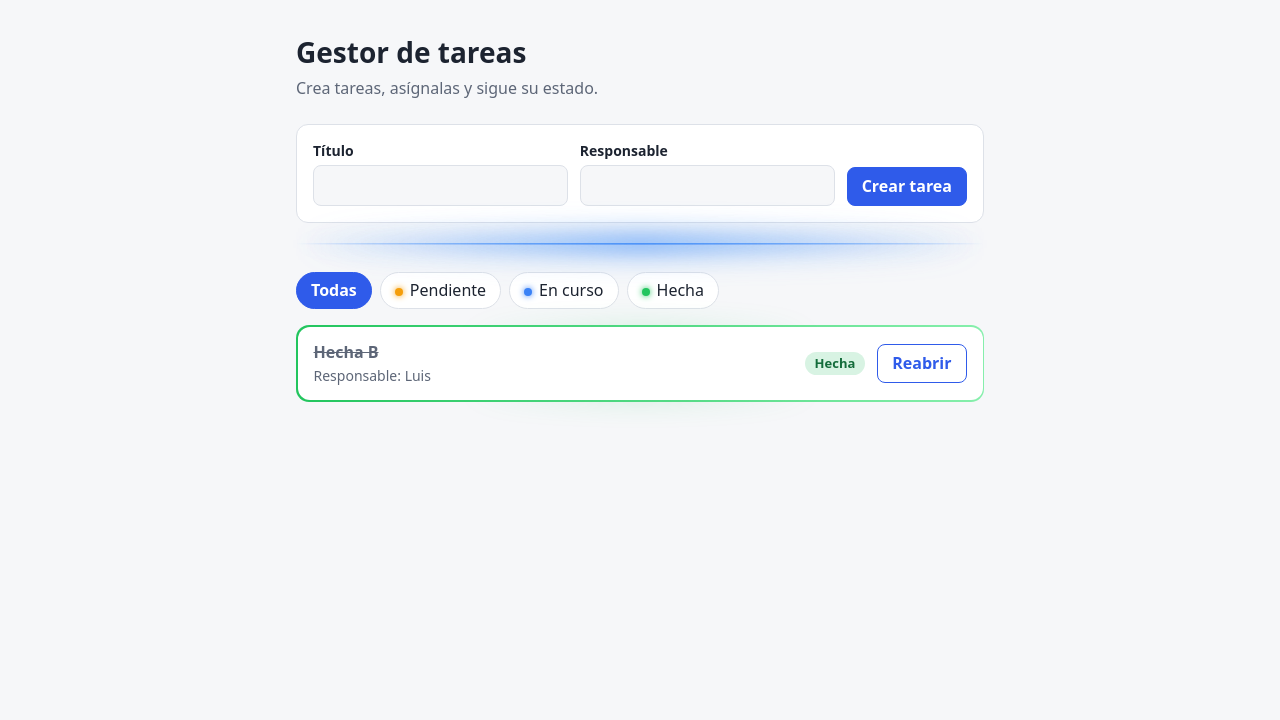
it: App (integración) › crear una tarea con un filtro que la ocultaría: aparece y el filtro vuelve a «Todas»
This screenshot has width=1280, height=720.
Expected: the text "Hecha B" is shown, [314, 341, 378, 363]
Click the button "Hecha": [673, 291] box [626, 272, 719, 310]
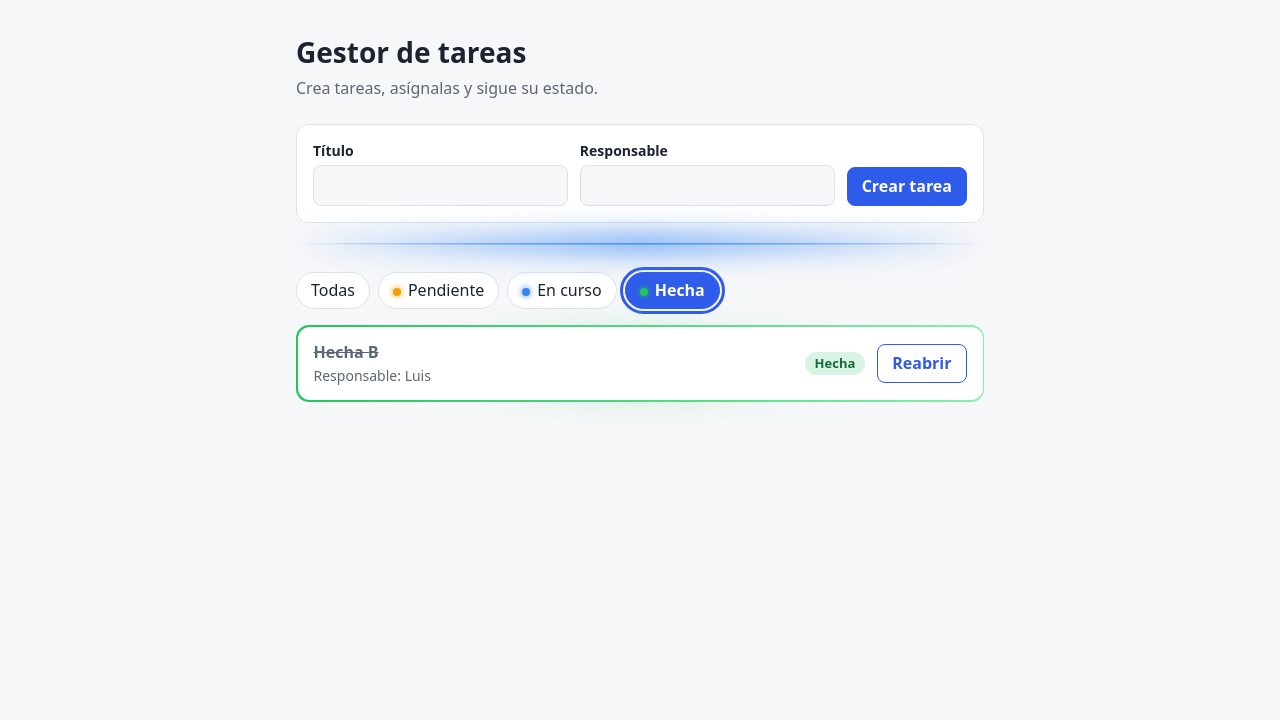
In the field labelled "Título": [440, 186] box [313, 165, 568, 206], type "Nueva tarea"
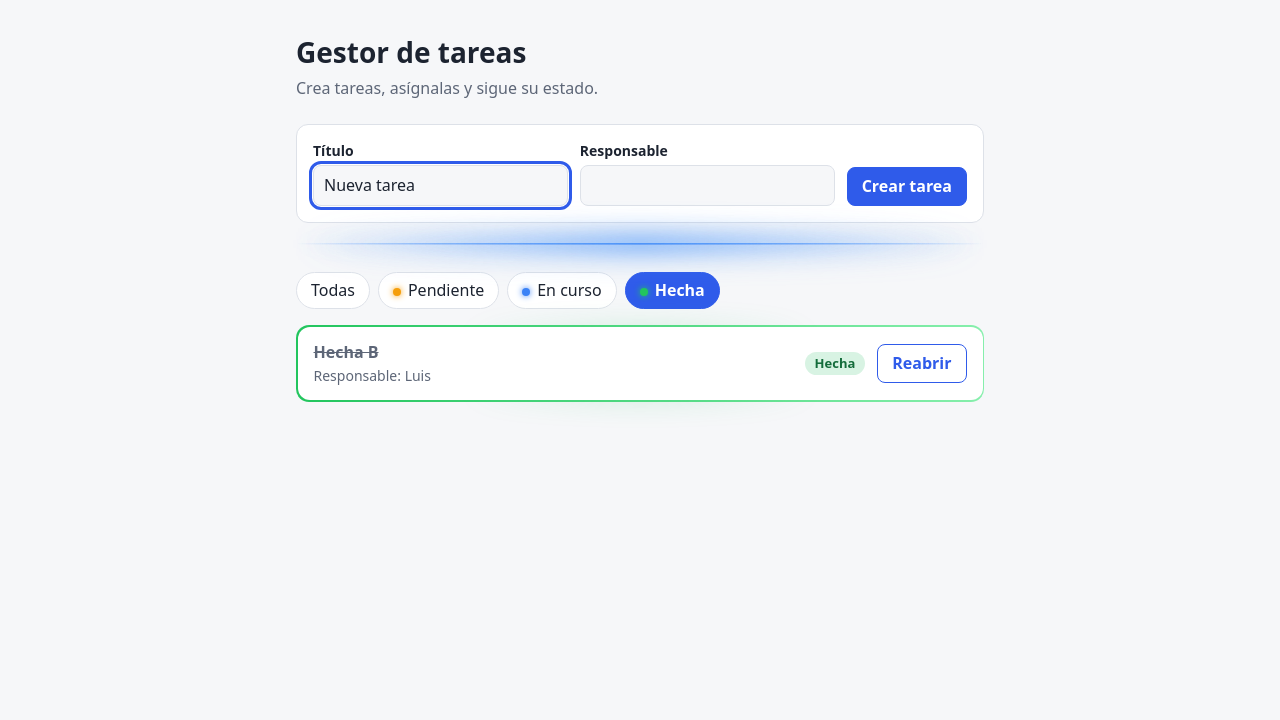
In the field labelled "Responsable": [707, 186] box [580, 165, 835, 206], type "Ana"
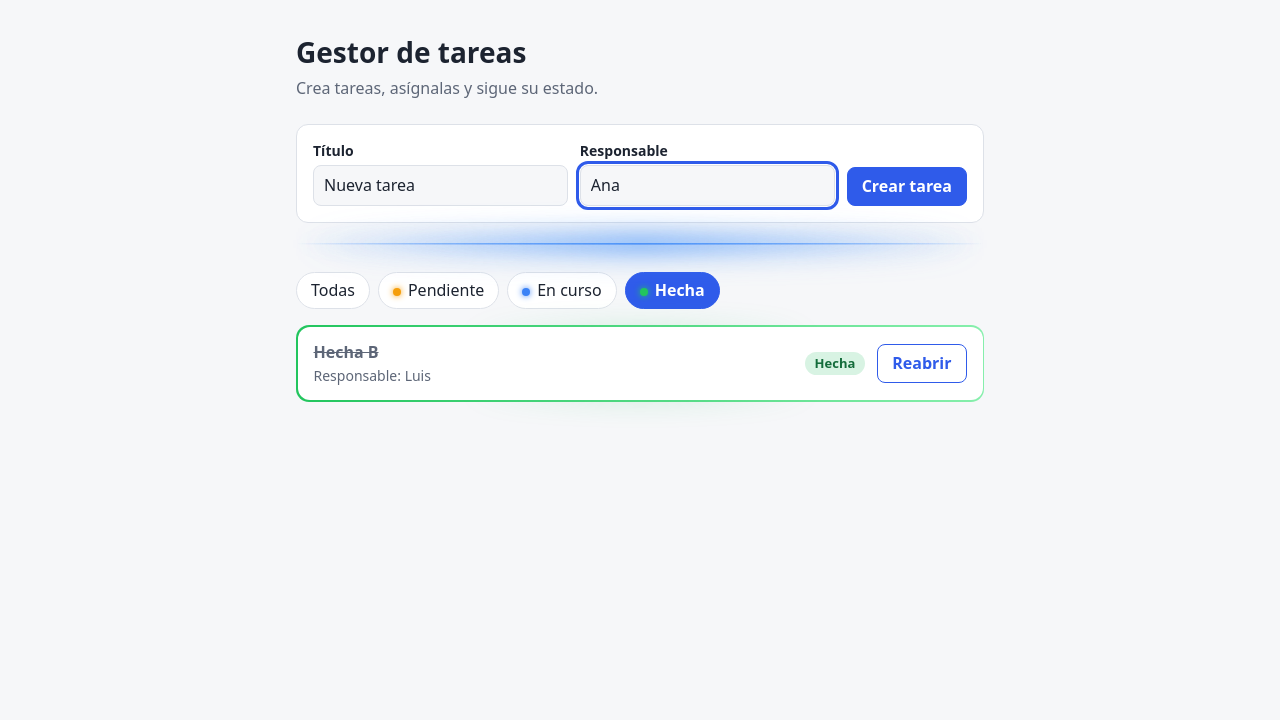
Click the button "Crear tarea": [907, 187] box [847, 167, 967, 206]
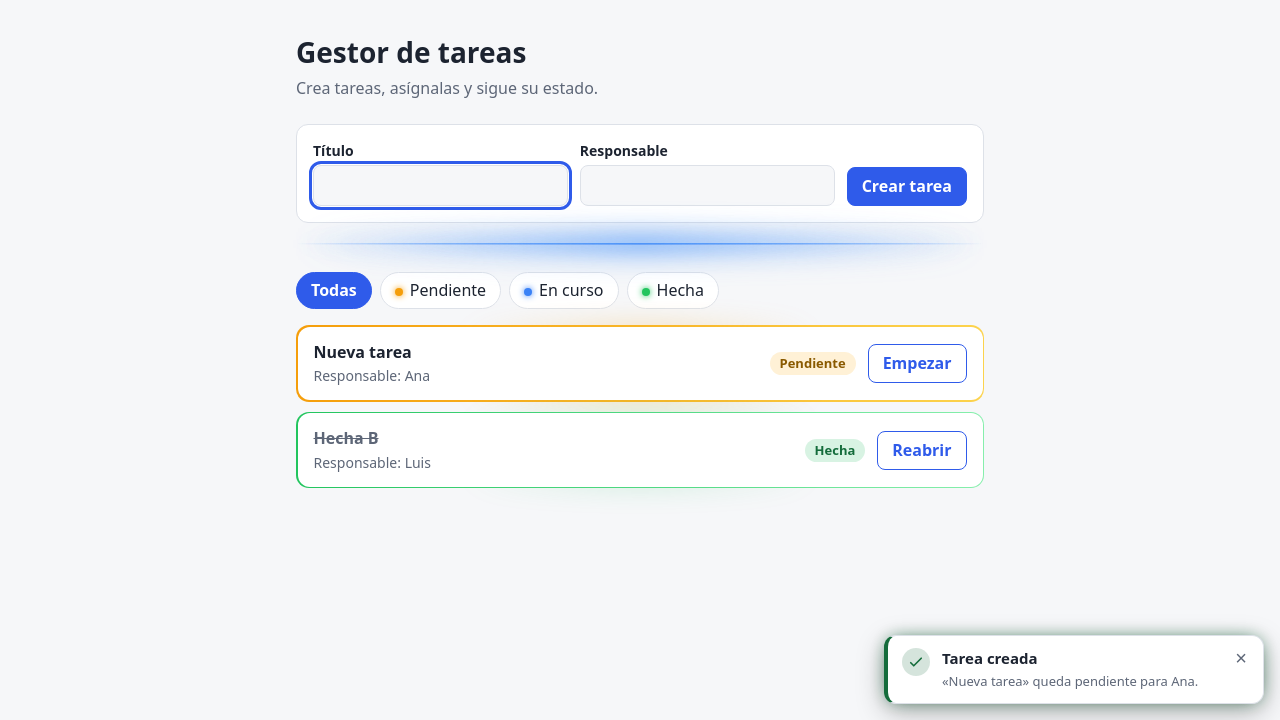
Now the text "Nueva tarea" is shown, box [314, 341, 412, 363]
